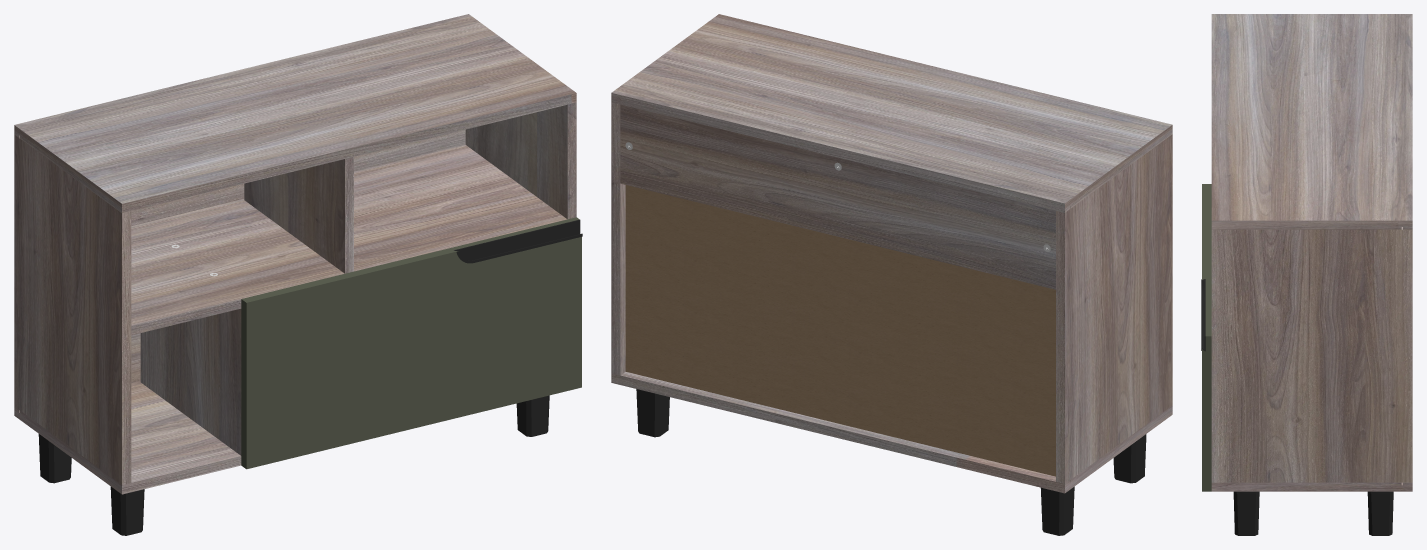
3 renders of one model, left to right at view 1: azimuth 30°, elevation 25°; view 2: azimuth 150°, elevation 25°; view 3: azimuth 270°, elevation 25°, orthographic. The views are drawn at different scales.
Visible parts, largest first — view 1: group_0.301, group_0.044, group_0.069; view 2: group_0.301, group_0.009, group_0.069; view 3: group_0.301, group_0.044, group_0.069.
Boxes of the visible parts, box(x1,y1,x2,y2) form: group_0.301: box(14, 14, 576, 494); group_0.044: box(241, 217, 581, 469); group_0.069: box(38, 219, 582, 535); group_0.301: box(611, 14, 1172, 493); group_0.009: box(625, 185, 1055, 476); group_0.069: box(636, 389, 1146, 535); group_0.301: box(1211, 14, 1412, 491); group_0.044: box(1202, 184, 1211, 491); group_0.069: box(1201, 279, 1393, 535).
Bounding box in the file's own units: 0.9012 × 0.6533 × 0.389.
Materials: 6 (2 with a texture image).
